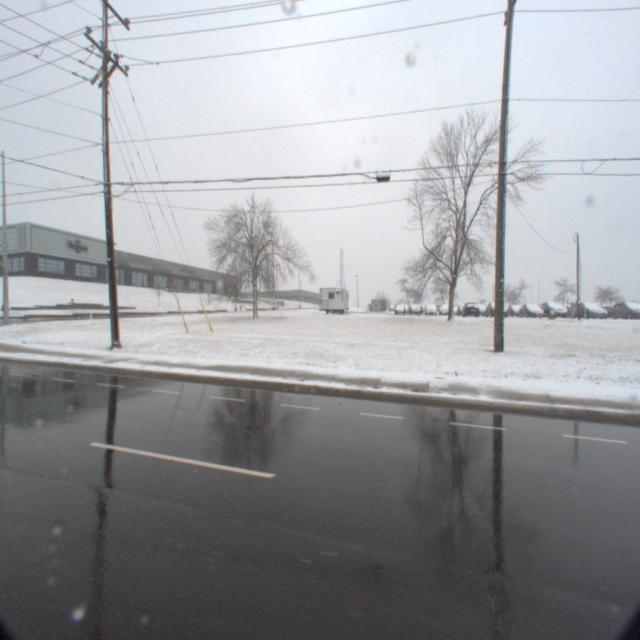Car: (514, 299, 542, 317)
